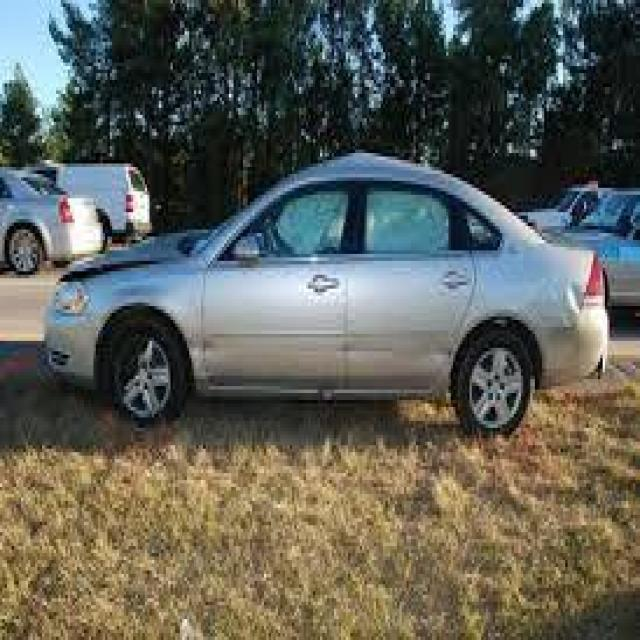damaged: (70, 250, 175, 286), (568, 278, 586, 327)
